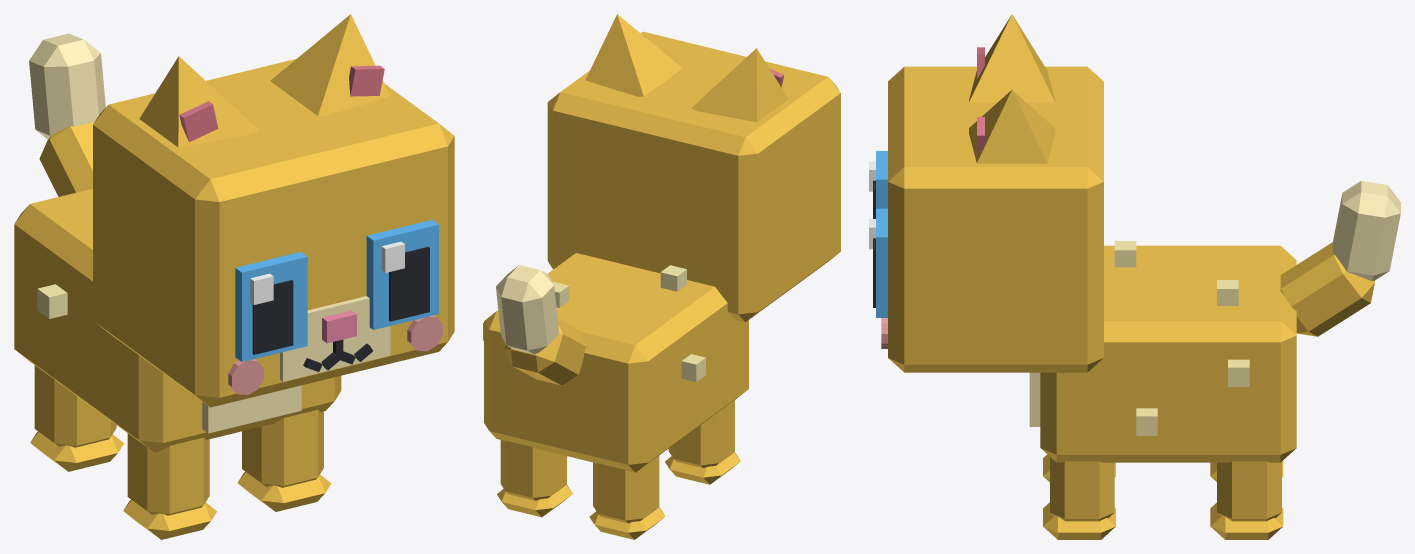
File: CleanACat_Cat_Starcoat.fbx
3 renders of one model, left to right at view 1: azimuth 30°, elevation 25°; view 2: azimuth 150°, elevation 25°; view 3: azimuth 270°, elevation 25°, orthographic. The views are drawn at different scales.
Parts seen in each view (by area): view 1: CleanACat_Cat_Starcoat_Head, CleanACat_Cat_Starcoat_Body, CleanACat_Cat_Starcoat_Tail, CleanACat_Cat_Starcoat_LegF2, CleanACat_Cat_Starcoat_Eye2, CleanACat_Cat_Starcoat_LegF1, CleanACat_Cat_Starcoat_Eye1, CleanACat_Cat_Starcoat_EarL, CleanACat_Cat_Starcoat_LegB2, CleanACat_Cat_Starcoat_EarR; view 2: CleanACat_Cat_Starcoat_Head, CleanACat_Cat_Starcoat_Body, CleanACat_Cat_Starcoat_Tail, CleanACat_Cat_Starcoat_LegB2, CleanACat_Cat_Starcoat_EarL, CleanACat_Cat_Starcoat_LegB1, CleanACat_Cat_Starcoat_EarR, CleanACat_Cat_Starcoat_LegF2; view 3: CleanACat_Cat_Starcoat_Head, CleanACat_Cat_Starcoat_Body, CleanACat_Cat_Starcoat_Tail, CleanACat_Cat_Starcoat_LegB1, CleanACat_Cat_Starcoat_LegF1, CleanACat_Cat_Starcoat_EarL, CleanACat_Cat_Starcoat_EarR, CleanACat_Cat_Starcoat_Eye1, CleanACat_Cat_Starcoat_Eye2.
Part boxes in pixels (bbox=[...]): CleanACat_Cat_Starcoat_Head: bbox=[93, 59, 454, 407]; CleanACat_Cat_Starcoat_Body: bbox=[14, 188, 341, 452]; CleanACat_Cat_Starcoat_Tail: bbox=[29, 33, 105, 196]; CleanACat_Cat_Starcoat_LegF2: bbox=[123, 433, 216, 539]; CleanACat_Cat_Starcoat_Eye2: bbox=[235, 252, 307, 361]; CleanACat_Cat_Starcoat_LegF1: bbox=[237, 409, 331, 511]; CleanACat_Cat_Starcoat_Eye1: bbox=[366, 219, 438, 329]; CleanACat_Cat_Starcoat_EarL: bbox=[270, 14, 389, 115]; CleanACat_Cat_Starcoat_LegB2: bbox=[30, 365, 123, 471]; CleanACat_Cat_Starcoat_EarR: bbox=[139, 56, 259, 147]; CleanACat_Cat_Starcoat_Head: bbox=[547, 31, 840, 322]; CleanACat_Cat_Starcoat_Body: bbox=[483, 253, 748, 472]; CleanACat_Cat_Starcoat_Tail: bbox=[496, 265, 586, 385]; CleanACat_Cat_Starcoat_LegB2: bbox=[589, 455, 665, 539]; CleanACat_Cat_Starcoat_EarL: bbox=[585, 14, 682, 96]; CleanACat_Cat_Starcoat_LegB1: bbox=[497, 440, 572, 517]; CleanACat_Cat_Starcoat_EarR: bbox=[691, 48, 788, 122]; CleanACat_Cat_Starcoat_LegF2: bbox=[665, 400, 740, 484]; CleanACat_Cat_Starcoat_Head: bbox=[881, 66, 1103, 372]; CleanACat_Cat_Starcoat_Body: bbox=[1029, 241, 1296, 462]; CleanACat_Cat_Starcoat_Tail: bbox=[1280, 181, 1400, 336]; CleanACat_Cat_Starcoat_LegB1: bbox=[1210, 461, 1283, 539]; CleanACat_Cat_Starcoat_LegF1: bbox=[1043, 457, 1115, 539]; CleanACat_Cat_Starcoat_EarL: bbox=[969, 90, 1055, 163]; CleanACat_Cat_Starcoat_EarR: bbox=[969, 14, 1055, 102]; CleanACat_Cat_Starcoat_Eye1: bbox=[869, 208, 887, 317]; CleanACat_Cat_Starcoat_Eye2: bbox=[869, 151, 887, 218].
Bounding box in the file's own units: 1 × 1.86 × 1.97.
1 material, 1 textured.
